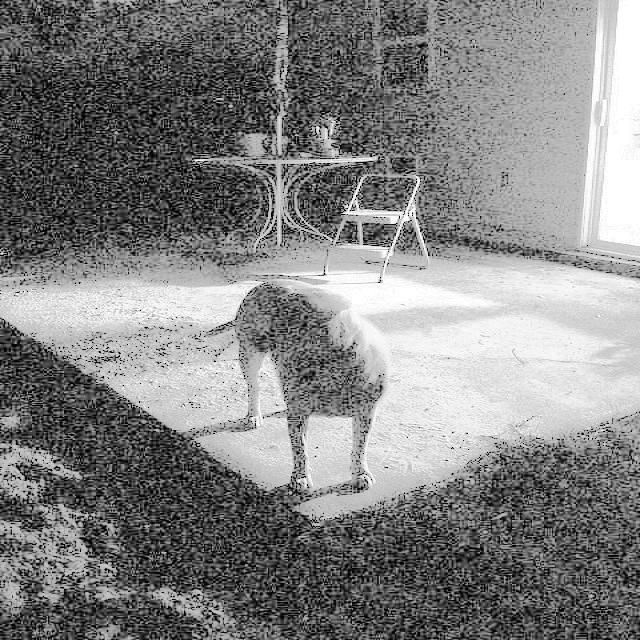Dog: (225, 264, 423, 531)
